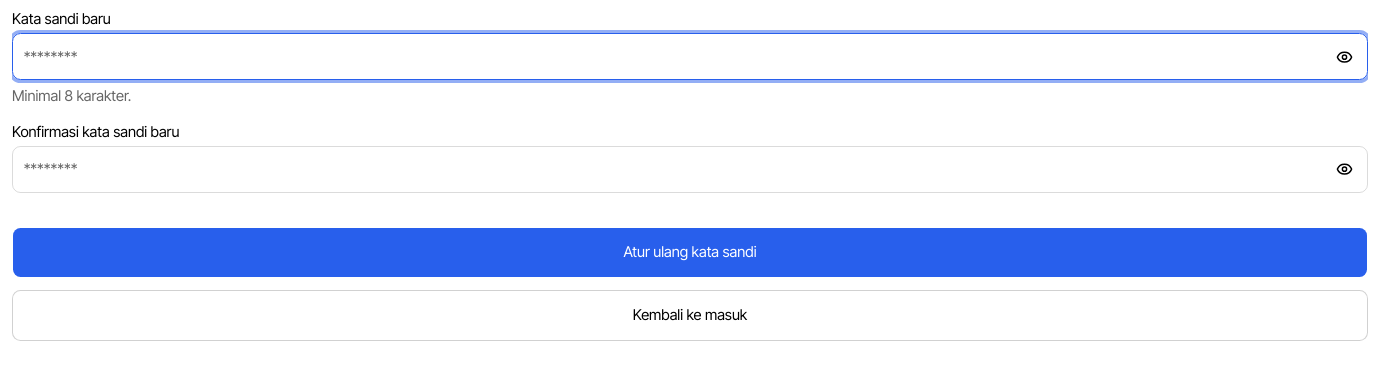
Test: ResetPasswordForm › shows a mismatch error when the passwords differ
Type "password1" into the password field labelled "Kata sandi baru" at (690, 57), box [12,33,1368,80]
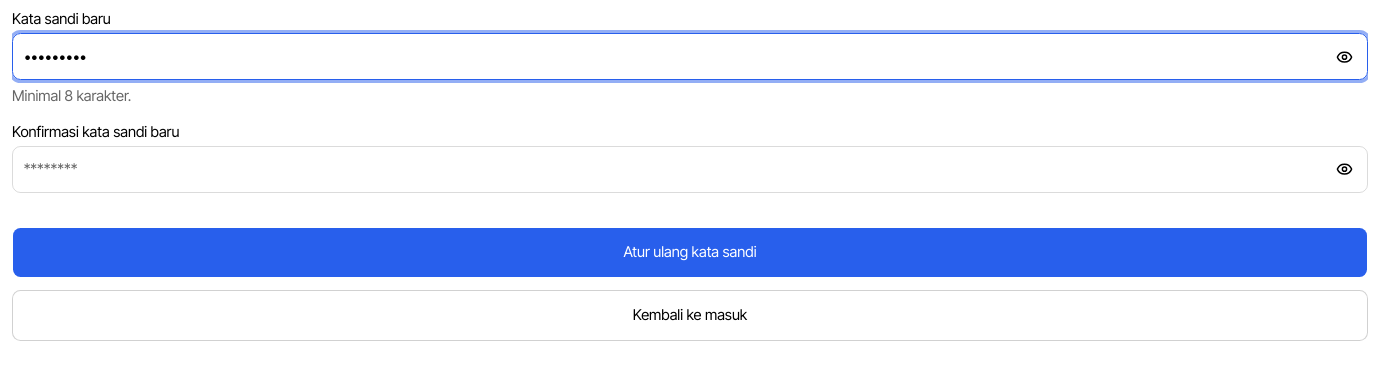
Type "password2" into the password field labelled "Konfirmasi kata sandi baru" at (690, 169), box [12,146,1368,193]
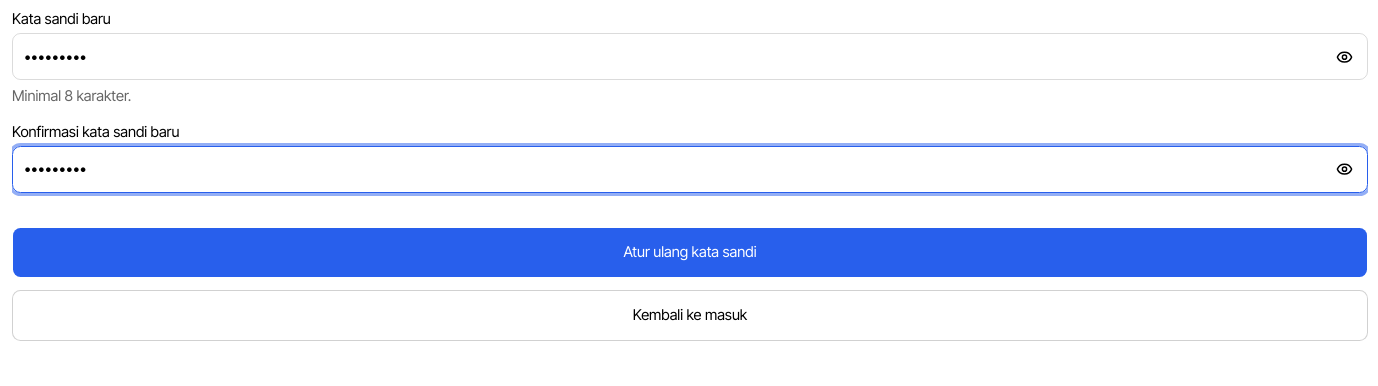
Click the button "Atur ulang kata sandi" at (690, 252), box [12,227,1368,278]
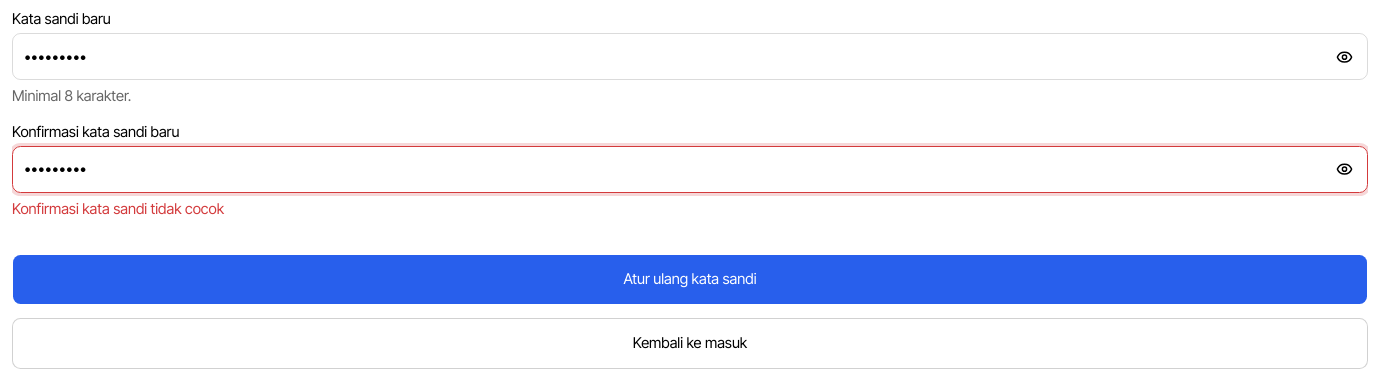
Result: the text "Konfirmasi kata sandi tidak cocok" is shown at [12,200,224,218]
